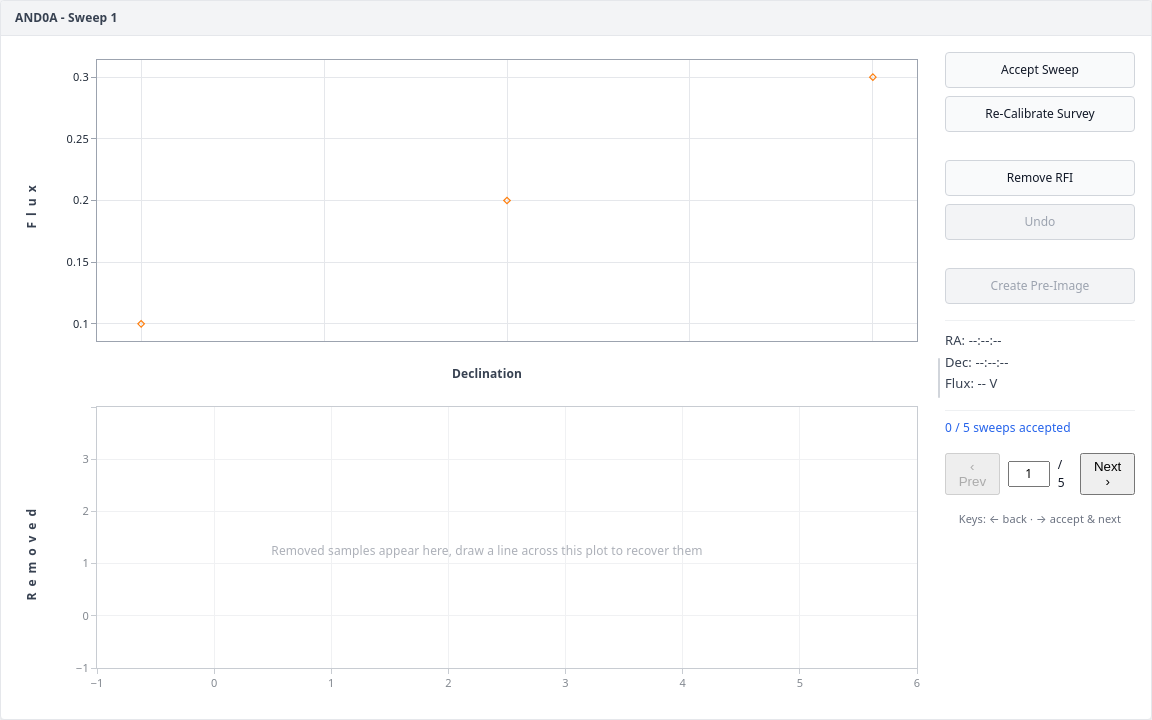
Accept Sweep is enabled after calibration and disabled per-sweep once accepted
Expected: the text "0 / 5 sweeps accepted" is shown, [945,410,1135,436]
Click the button "Accept Sweep". click: (1040, 70)
box: [945,52,1135,88]
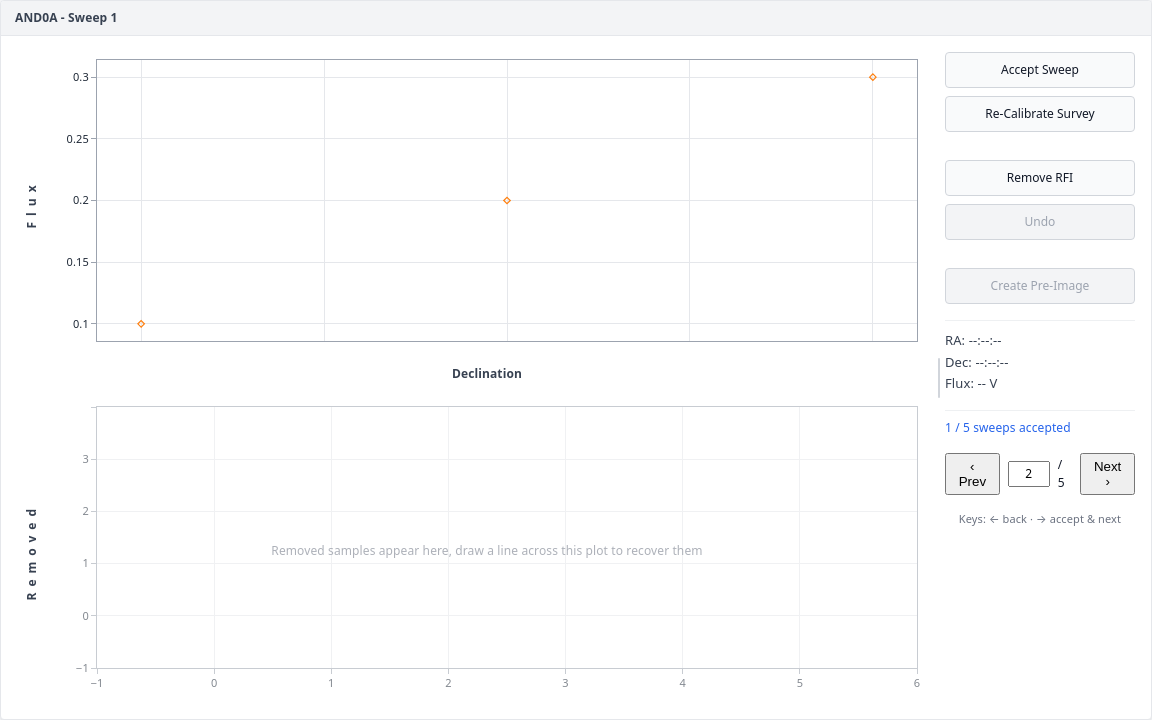
Expected: the text "1 / 5 sweeps accepted" is shown, [945,410,1135,436]
